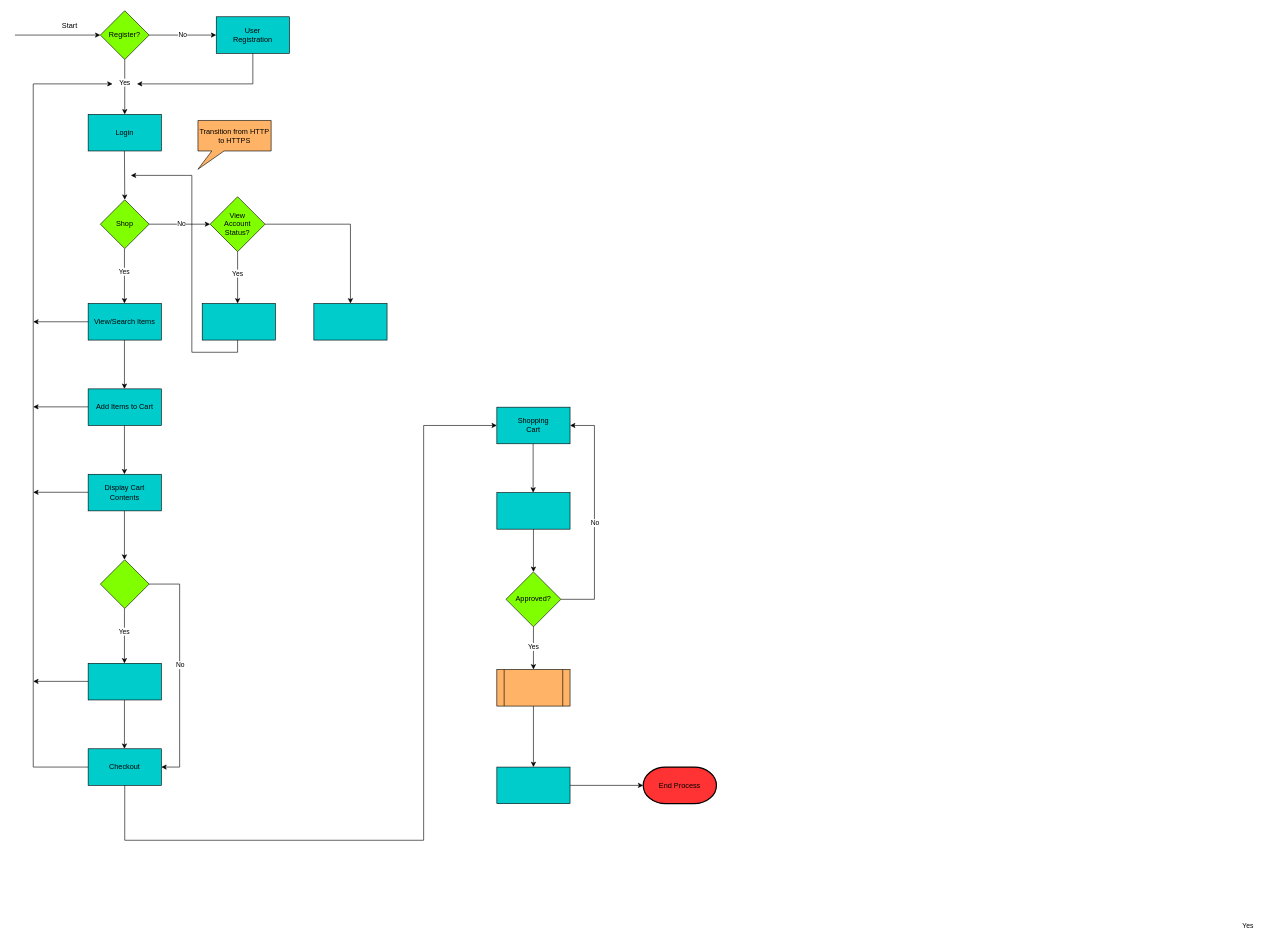
Image size: 1263x941. Some labels were removed from this diagram. Each missing label, with the centre of its shape:
"Change Cart Items" goes at [124,583].
"Change Item Quantities" goes at [124,681].
"Logout" goes at [350,321].
"Oder Confirmation" goes at [533,785].
"Payment Info to Merchant" goes at [533,510].
"Shipping & Handling" goes at [533,687].
"View Account Status" goes at [238,321].
